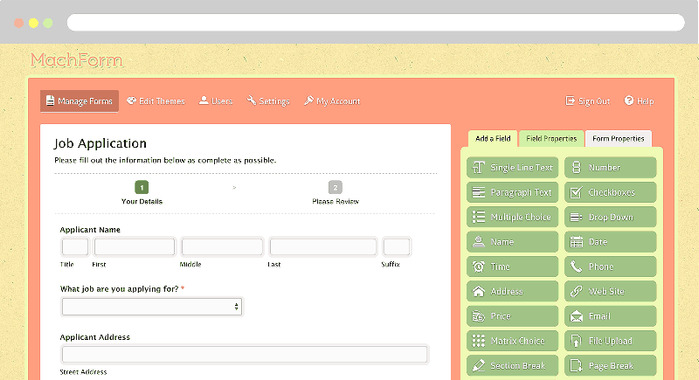_form_: (36, 170, 437, 380), (458, 149, 666, 380)
button: (563, 351, 661, 376), (465, 204, 559, 228), (465, 229, 559, 253), (465, 304, 559, 328), (563, 180, 657, 204), (563, 204, 657, 228), (564, 229, 658, 253), (563, 254, 657, 278), (466, 279, 559, 303), (466, 353, 559, 377), (465, 328, 560, 351), (466, 181, 560, 204), (563, 304, 657, 327), (465, 156, 558, 179), (563, 156, 656, 179), (465, 255, 559, 277), (563, 279, 657, 301), (564, 328, 656, 350)
field: (59, 342, 430, 367), (61, 297, 243, 318), (269, 236, 379, 257), (94, 236, 177, 257), (179, 235, 264, 255), (58, 237, 90, 256), (382, 237, 412, 257)
field_with_label: (56, 333, 432, 369), (60, 284, 246, 321)
